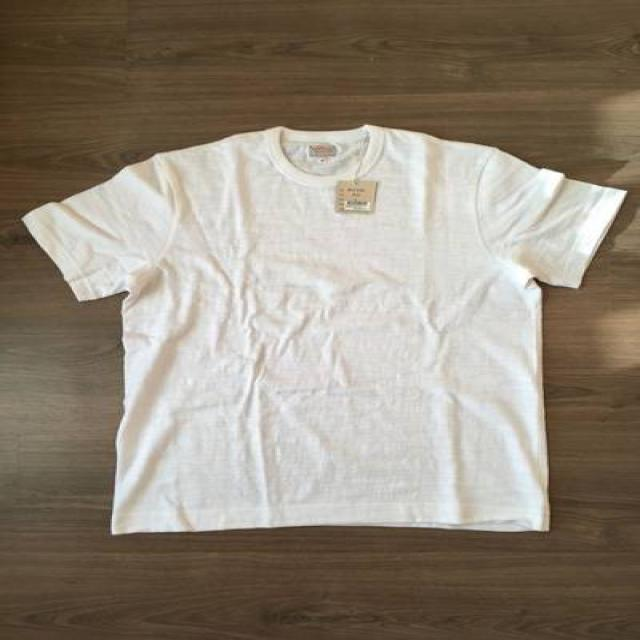shirt: (20, 123, 630, 534)
